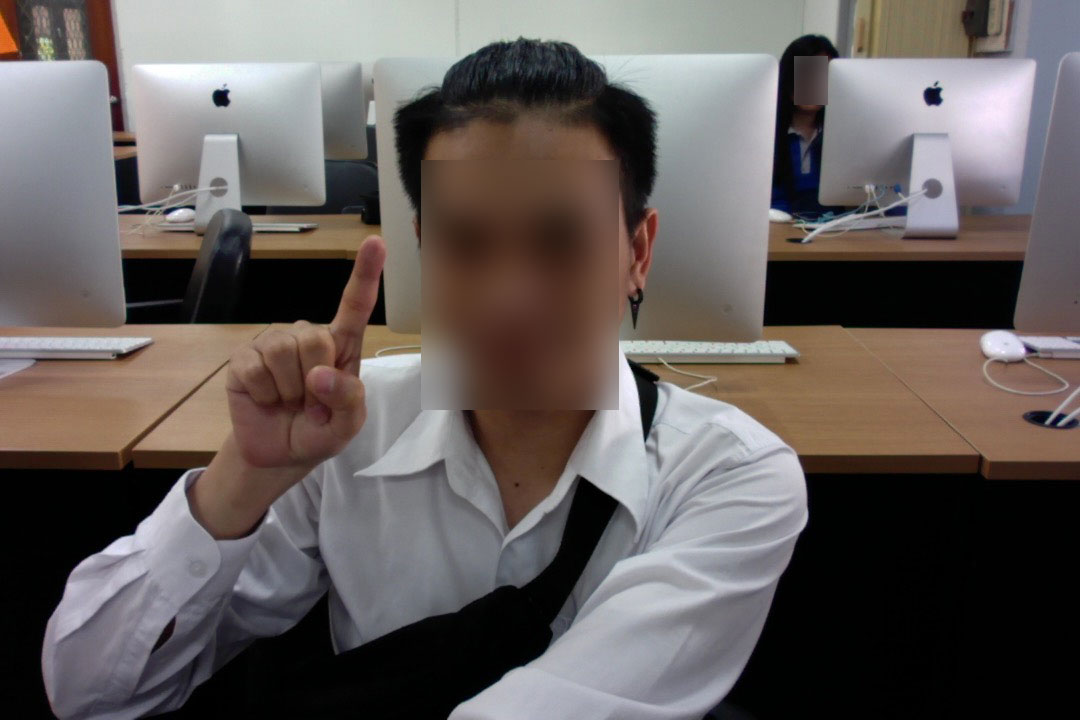dor: (195, 233, 403, 462)
